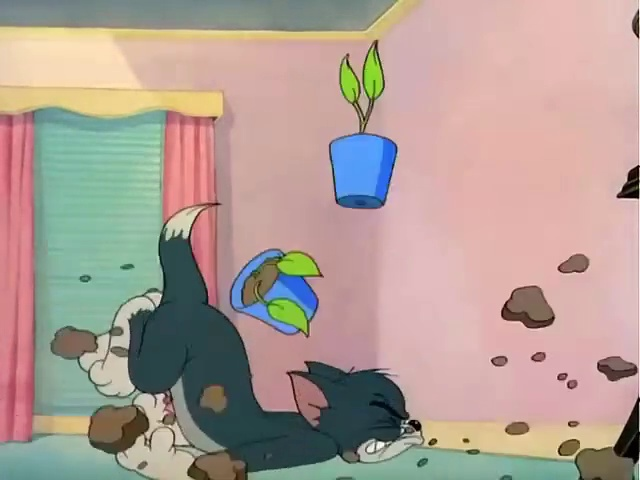tom: (94, 196, 442, 474)
